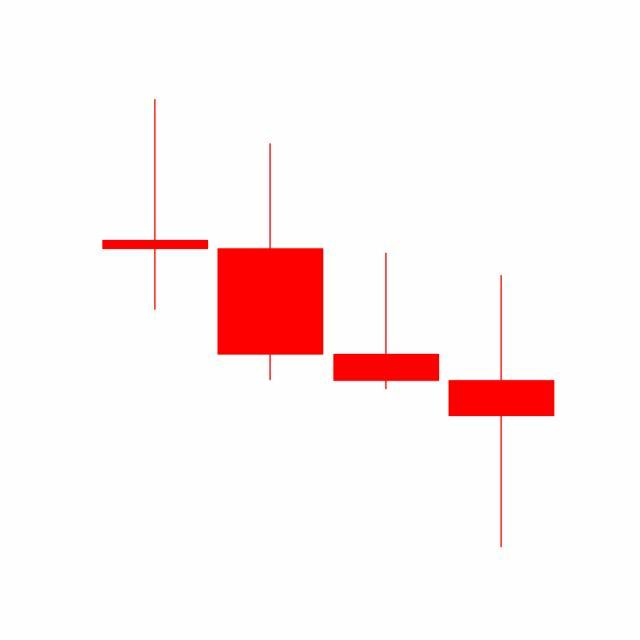Spinning Top: (444, 273, 560, 552)
